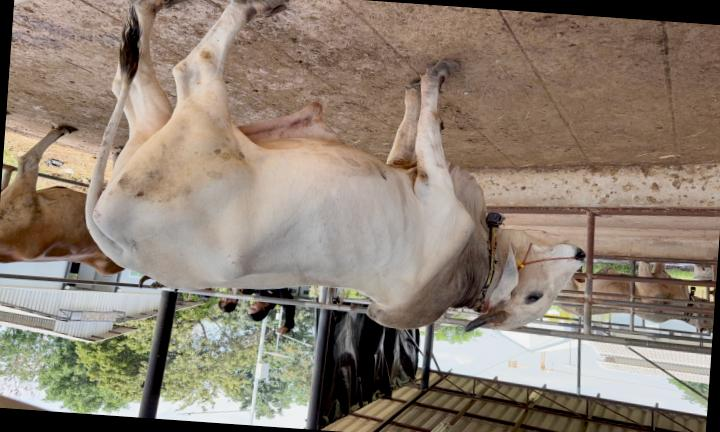Brahman: (86, 0, 584, 329)
